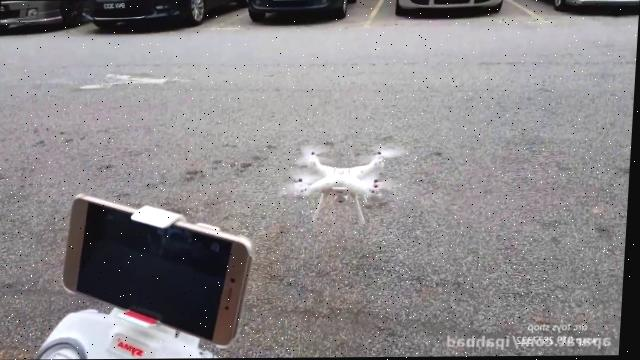drone: (282, 140, 408, 226)
